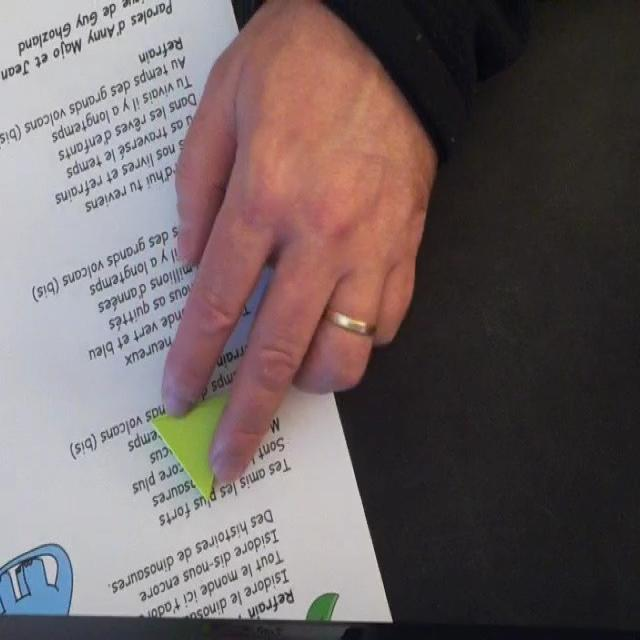triangle: (149, 391, 234, 506)
